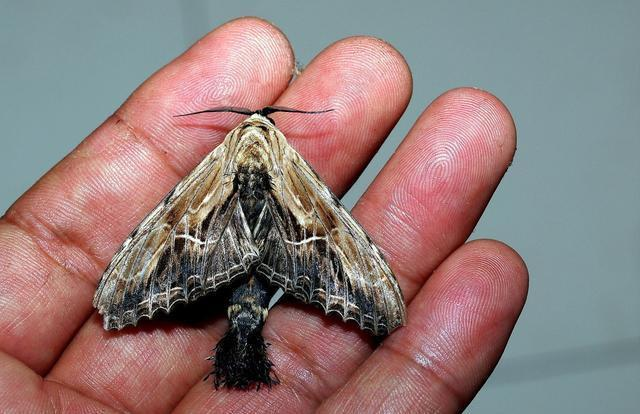feie: (90, 109, 409, 358)
